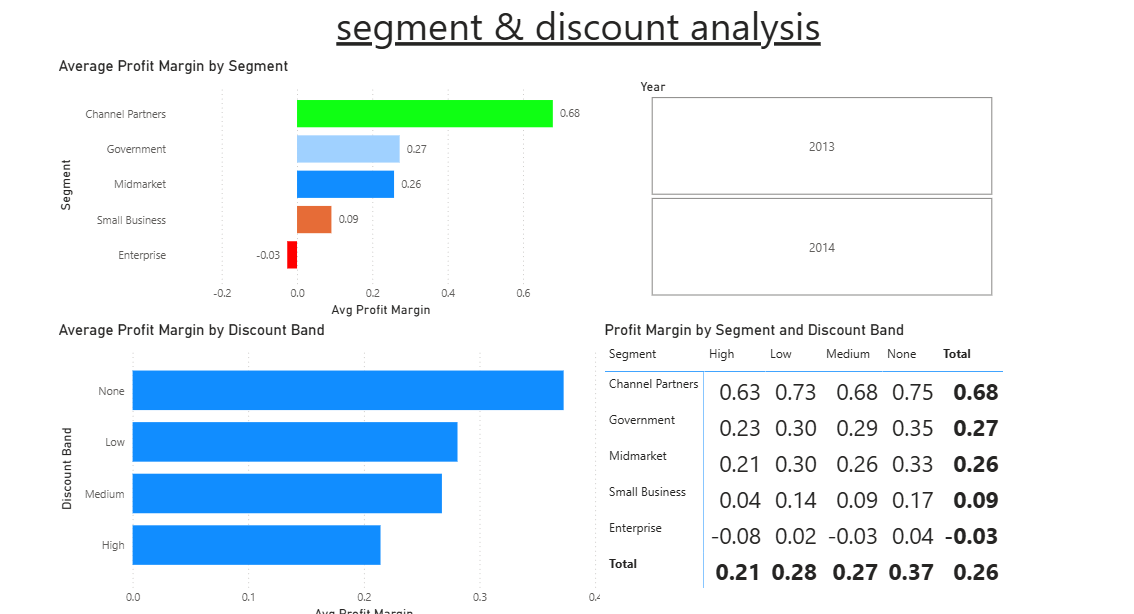

Layout of this report page (visuals, bound fields, positions):
{"tool":"powerbi","page":{"name":"Segment & Discount Analysis","canvas":[1280,720],"ordinal":1},"visuals":[{"type":"clusteredBarChart","title":"Average Profit Margin by Segment","fields":{"Category":["financial_cleaned.Segment"],"Y":["financial_cleaned.Avg Profit Margin"]},"box":[74,88,606,294],"z":0},{"type":"clusteredBarChart","title":"Average Profit Margin by Discount Band","fields":{"Category":["financial_cleaned.Discount Band"],"Y":["financial_cleaned.Avg Profit Margin"]},"box":[74,382,614,338],"z":1000},{"type":"pivotTable","title":"Profit Margin by Segment and Discount Band","fields":{"Rows":["financial_cleaned.Segment"],"Columns":["financial_cleaned.Discount Band"],"Values":["financial_cleaned.Avg Profit Margin"]},"box":[680,382,528,330],"z":2000},{"type":"slicer","fields":{"Values":["financial_cleaned.Date.Variation.Date Hierarchy.Year"]},"box":[712,108,428,252],"z":3000},{"type":"textbox","box":[381.7,18.3,660,70],"z":4000}]}

Visuals, with their boxes on the page's 1280x720 design canvas (x1, y1, x2, y2). These are canvas units, not pixel positions in the 1134x614 screenshot, which may show the page scaled, cropped or inside an application window:
"Average Profit Margin by Segment" clusteredBarChart: <region>74, 88, 680, 382</region>
"Average Profit Margin by Discount Band" clusteredBarChart: <region>74, 382, 688, 720</region>
"Profit Margin by Segment and Discount Band" pivotTable: <region>680, 382, 1208, 712</region>
slicer - financial_cleaned.Date.Variation.Date Hierarchy.Year: <region>712, 108, 1140, 360</region>
textbox: <region>382, 18, 1042, 88</region>
